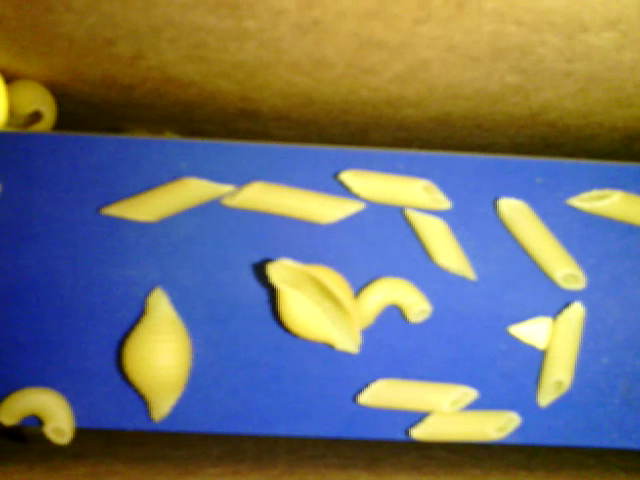elbow: (2, 383, 78, 449), (352, 275, 432, 332)
penne: (497, 194, 588, 289), (90, 175, 237, 228), (227, 175, 369, 228), (405, 211, 479, 285), (338, 165, 451, 212), (539, 300, 587, 408), (355, 377, 482, 411), (407, 409, 524, 444), (564, 185, 638, 228)
shell: (113, 283, 194, 419), (262, 258, 364, 356), (1, 74, 65, 138)
